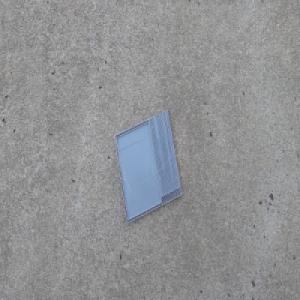PlasticPart: (114, 108, 183, 225)
